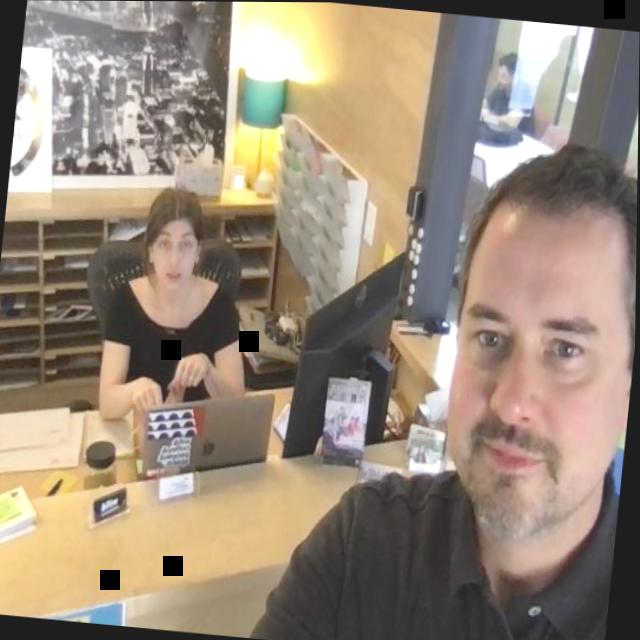NO-Mask: (436, 135, 638, 550), (142, 188, 209, 291)
